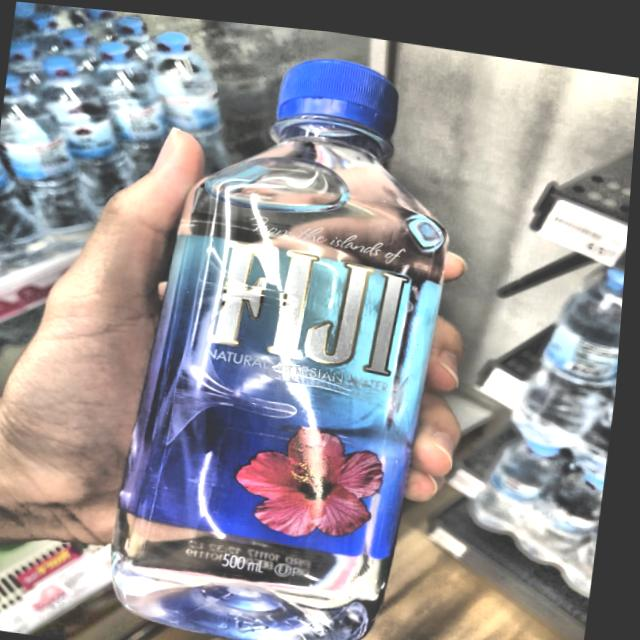Bottles: (89, 21, 486, 640)
